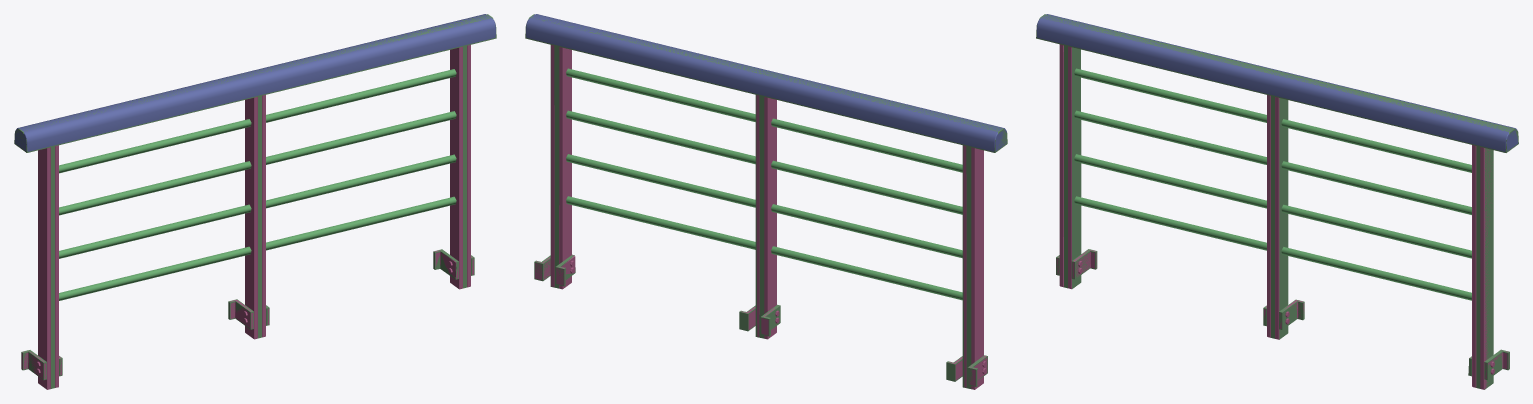
Rendered from StudioBanister_02_Mesh.fbx.
The picture shows the model from 3 angles, left to right: view 1: azimuth 30°, elevation 25°; view 2: azimuth 150°, elevation 25°; view 3: azimuth 330°, elevation 25°; orthographic projection.
Parts seen in each view (by area): view 1: Studio_Banister_01_LOD0, Studio_Banister_01_Col; view 2: Studio_Banister_01_LOD0, Studio_Banister_01_Col; view 3: Studio_Banister_01_LOD0, Studio_Banister_01_Col.
Boxes of the visible parts, bbox=[...] form: Studio_Banister_01_LOD0: bbox=[15, 14, 495, 389]; Studio_Banister_01_Col: bbox=[14, 14, 496, 388]; Studio_Banister_01_LOD0: bbox=[526, 14, 1006, 389]; Studio_Banister_01_Col: bbox=[525, 14, 1007, 389]; Studio_Banister_01_LOD0: bbox=[1036, 14, 1518, 389]; Studio_Banister_01_Col: bbox=[1036, 14, 1518, 389].
Size of what is drawn, in the model's own units: 2.41 by 1.28 by 0.1635.
